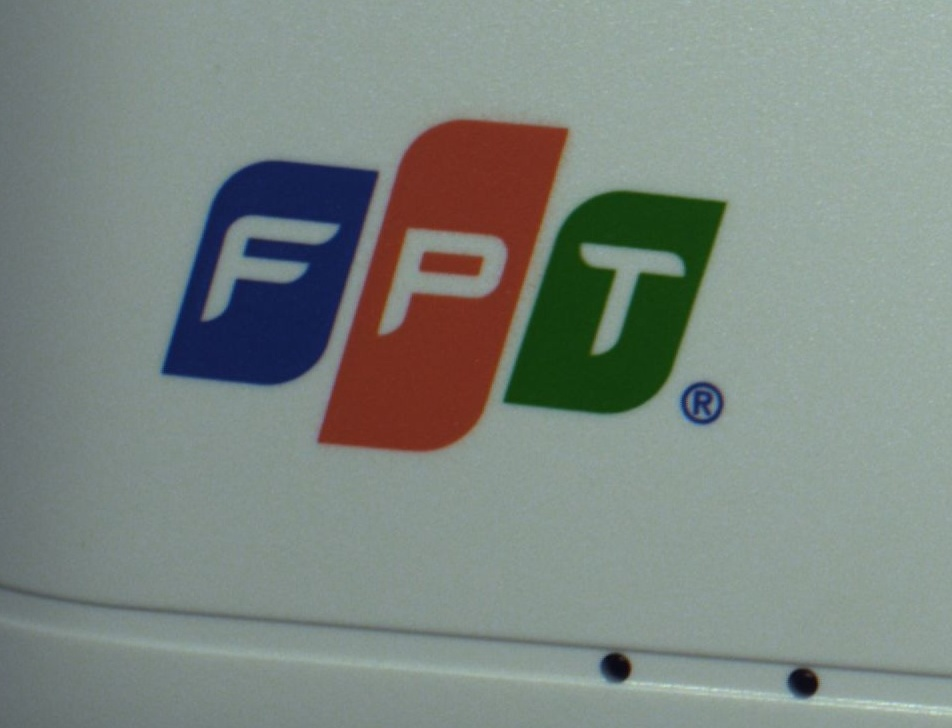BR_FPT: (148, 115, 734, 452)
